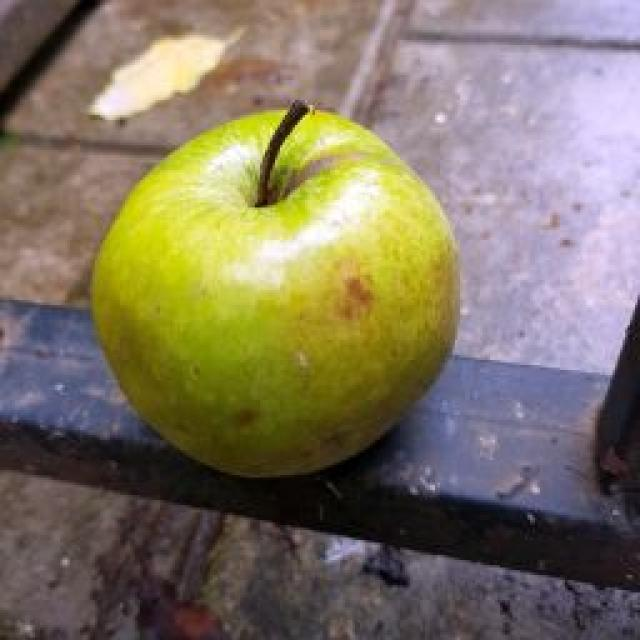Good_Apple: (92, 110, 459, 476)
